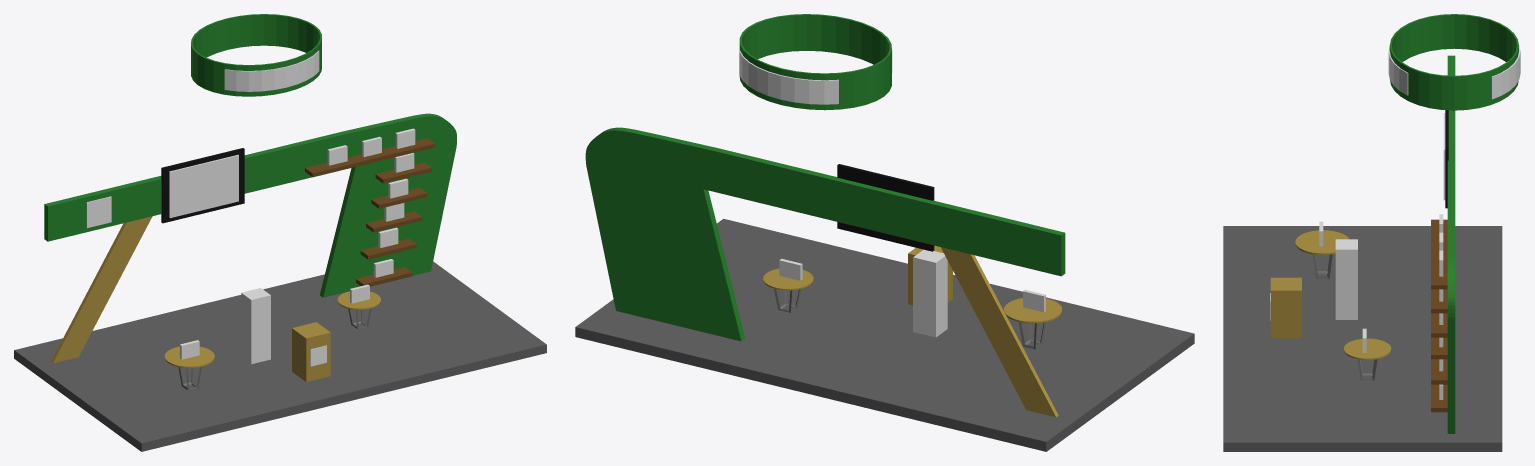
Rendered from stand remodel peq.fbx.
The picture shows the model from 3 angles, left to right: view 1: azimuth 30°, elevation 25°; view 2: azimuth 150°, elevation 25°; view 3: azimuth 270°, elevation 25°; orthographic projection. The views are drawn at different scales.
Visible parts, largest first — view 1: Cube, pared, baner superior, pilar inclinado, pantalla, persona, nombre empresa 1, cubo, fondo pantalla, estante 5.001, mesa 1, logo superior (+5 smaller); view 2: Cube, pared, baner superior, pilar inclinado, persona, nombre empresa 2, fondo pantalla, mesa 1, mesa 2, cubo; view 3: Cube, baner superior, pared, cubo, persona, estante 5.001, mesa 1, mesa 2, nombre empresa 2, nombre empresa 1, estante 1, estante 2 (+4 smaller).
Part boxes in pixels (x1,y1,x2,y2): Cube: (14,261,546,451); pared: (44,113,456,297); baner superior: (191,14,321,96); pilar inclinado: (51,216,152,363); pantalla: (169,154,238,218); persona: (241,288,270,364); nombre empresa 1: (224,50,319,91); cubo: (292,322,330,381); fondo pantalla: (161,148,244,223); estante 5.001: (305,138,434,177); mesa 1: (164,346,214,368); logo superior: (86,196,111,228); Cube: (575,218,1194,451); pared: (585,127,1065,341); baner superior: (739,14,891,110); pilar inclinado: (941,247,1058,417); persona: (913,249,947,337); nombre empresa 2: (739,51,838,104); fondo pantalla: (837,164,934,251); mesa 1: (1004,298,1062,323); mesa 2: (763,268,813,290); cubo: (908,245,952,305); Cube: (1223,226,1502,451); baner superior: (1389,14,1518,110); pared: (1447,55,1455,433); cubo: (1270,277,1301,338); persona: (1335,239,1357,319); estante 5.001: (1431,219,1447,289); mesa 1: (1295,230,1349,254); mesa 2: (1343,338,1391,359); nombre empresa 2: (1491,45,1520,99); nombre empresa 1: (1388,47,1408,95); estante 1: (1431,384,1447,412); estante 2: (1431,359,1447,384).
Size of the model in its own units: 14.27 by 9.17 by 8.02.
